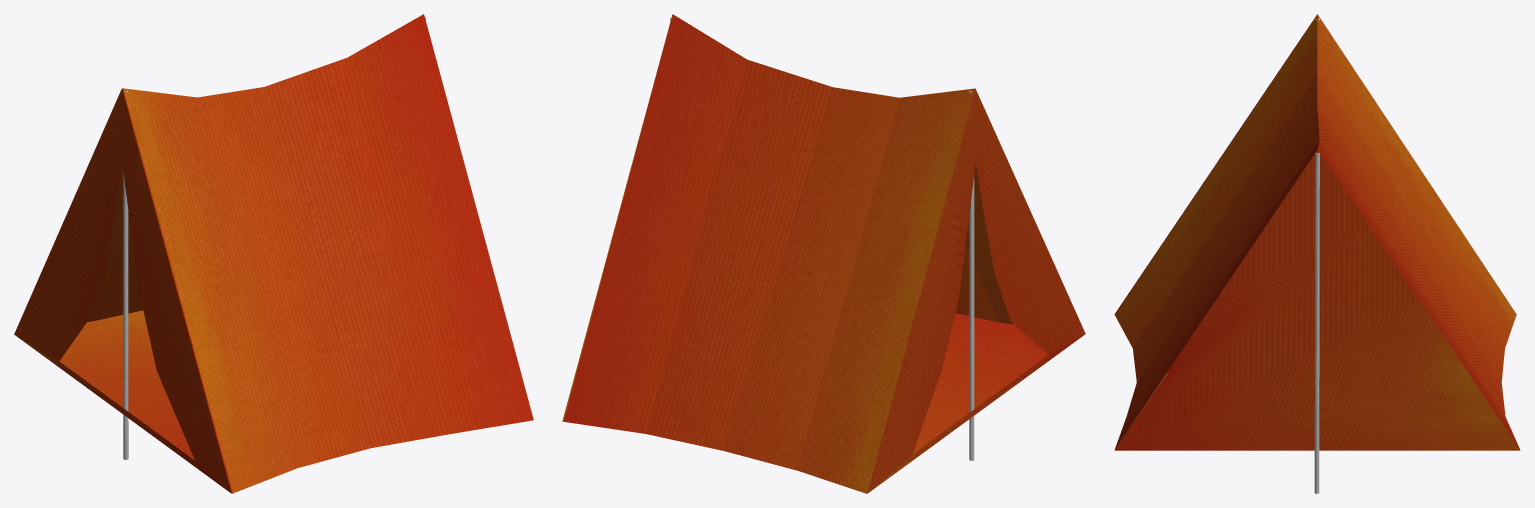
Rendered from tendaedisi2 1.fbx.
3 renders of one model, left to right at view 1: azimuth 30°, elevation 25°; view 2: azimuth 150°, elevation 25°; view 3: azimuth 270°, elevation 25°, orthographic. The views are drawn at different scales.
Parts seen in each view (by area): view 1: Plane, Plane.001; view 2: Plane, Plane.001; view 3: Plane, Plane.001.
Boxes of the visible parts, x1,y1,x2,y2 form: Plane: [14, 14, 533, 493]; Plane.001: [123, 17, 425, 459]; Plane: [562, 14, 1085, 493]; Plane.001: [670, 17, 974, 460]; Plane: [1114, 14, 1520, 450]; Plane.001: [1314, 18, 1319, 493].
Bounding box in the file's own units: 805 × 942 × 1009.
